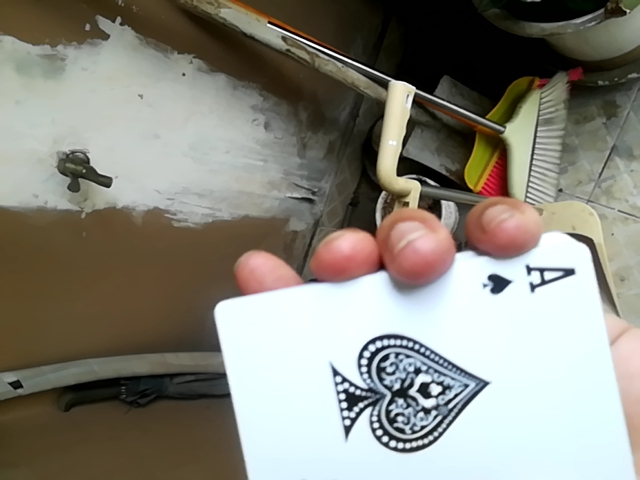ht a: (205, 245, 631, 480)
